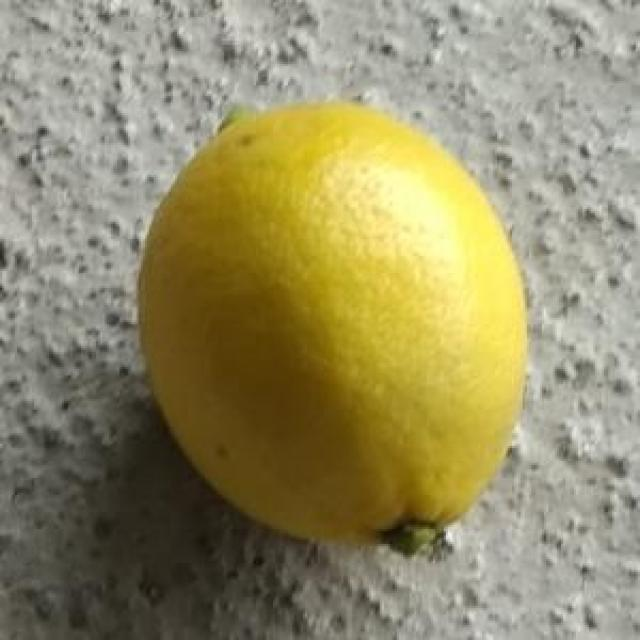lemon: (135, 100, 532, 554)
